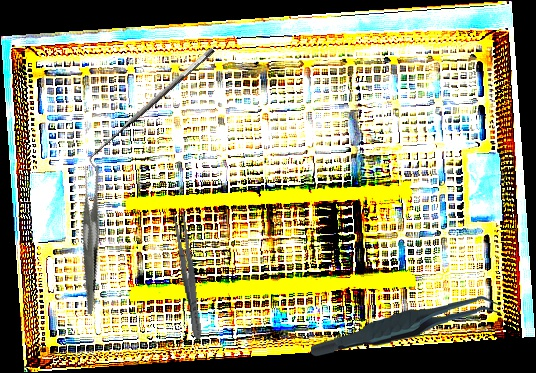Dressing Forceps: (40, 161, 138, 315), (171, 211, 206, 342)
Hook Surgical: (83, 45, 224, 172)
Tissue Forceps: (309, 294, 502, 359)
